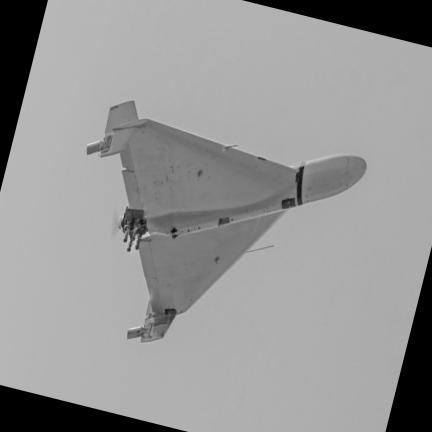Shahed: (87, 101, 366, 342)
